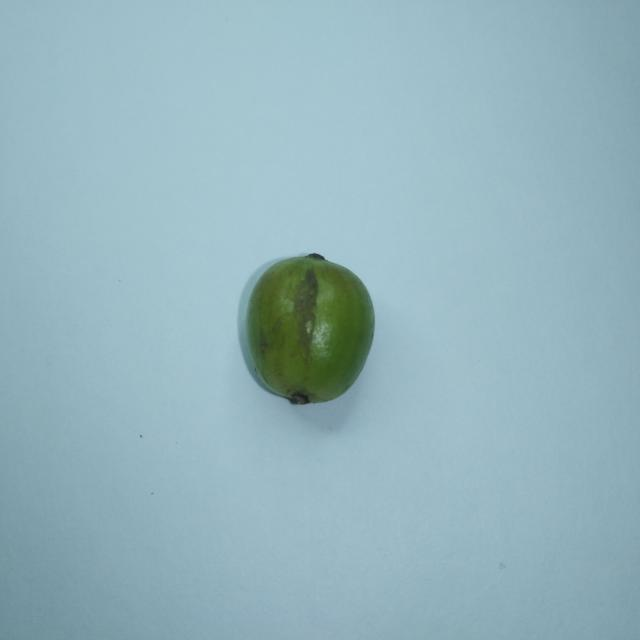Sano: (238, 253, 374, 404)
